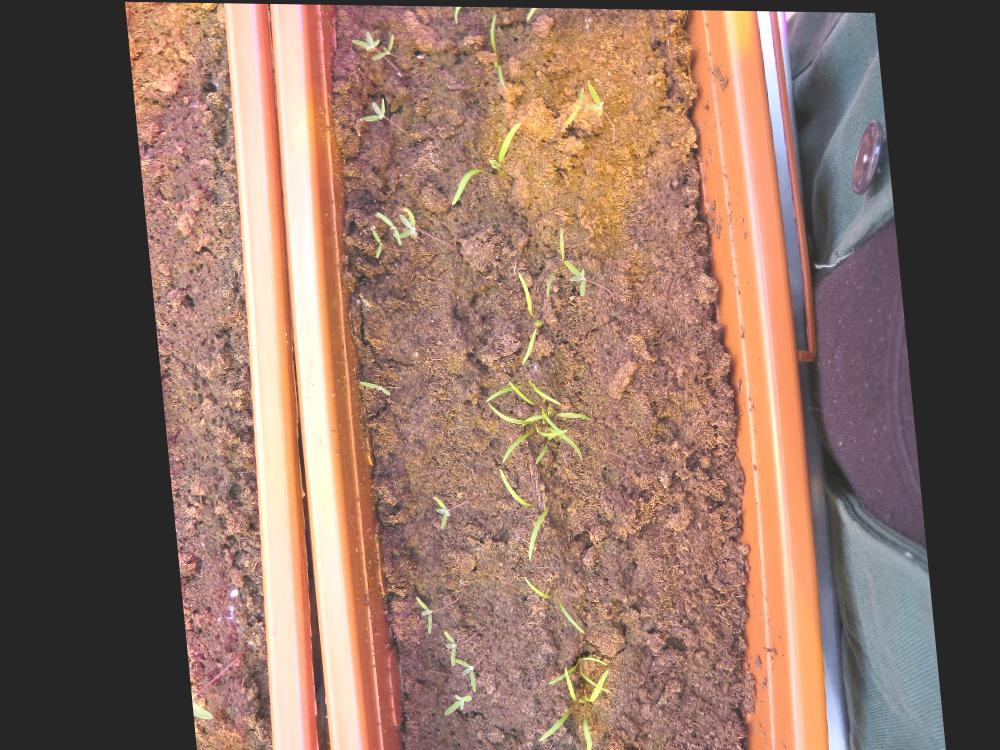weed: (556, 85, 585, 127), (557, 259, 582, 297), (402, 595, 422, 633), (426, 693, 459, 716), (356, 97, 386, 122), (420, 494, 441, 529), (347, 30, 379, 50), (349, 380, 383, 394), (364, 227, 378, 258)
